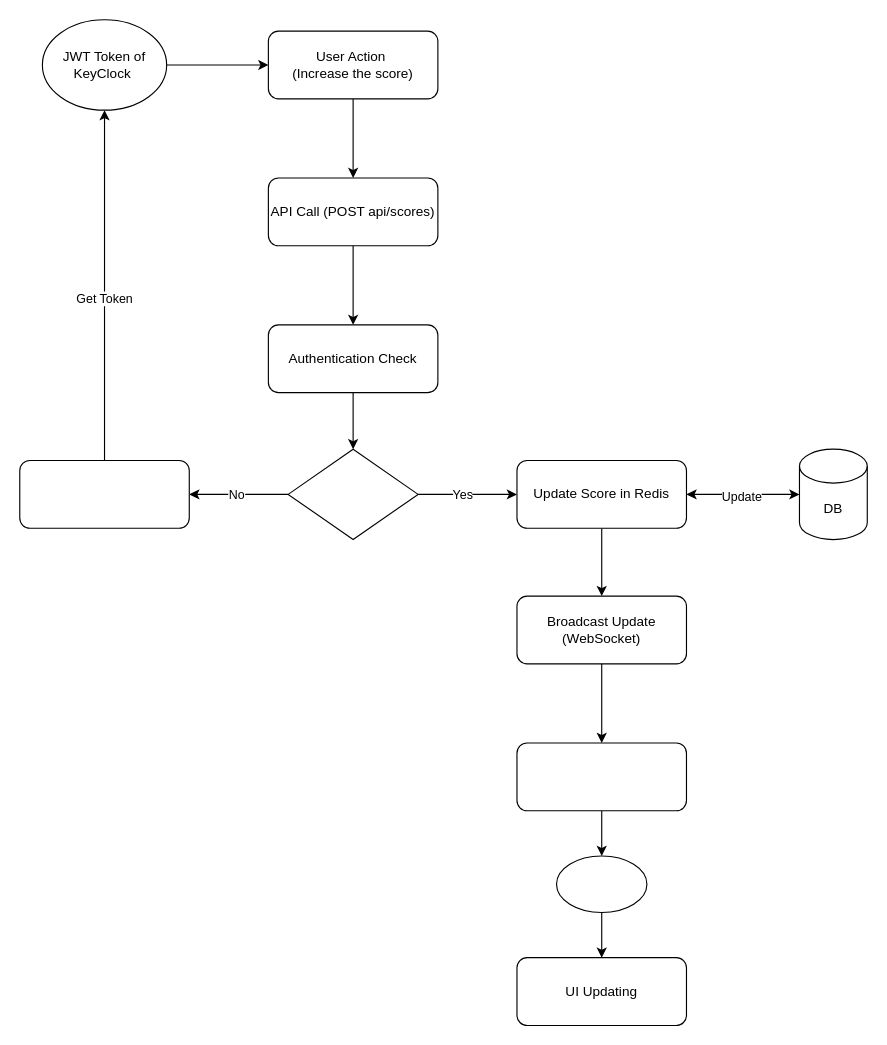
This 887x1045 diagram has some shape labels left out. The centre of each missing label's shape, as x and y in pixels:
CDN Cache: the point at 601,883
Fetch Top10 Scores (GET /api/scores/top10): the point at 601,776
Reject Request (Unauthorized): the point at 104,493
Valid Token?: the point at 352,494
